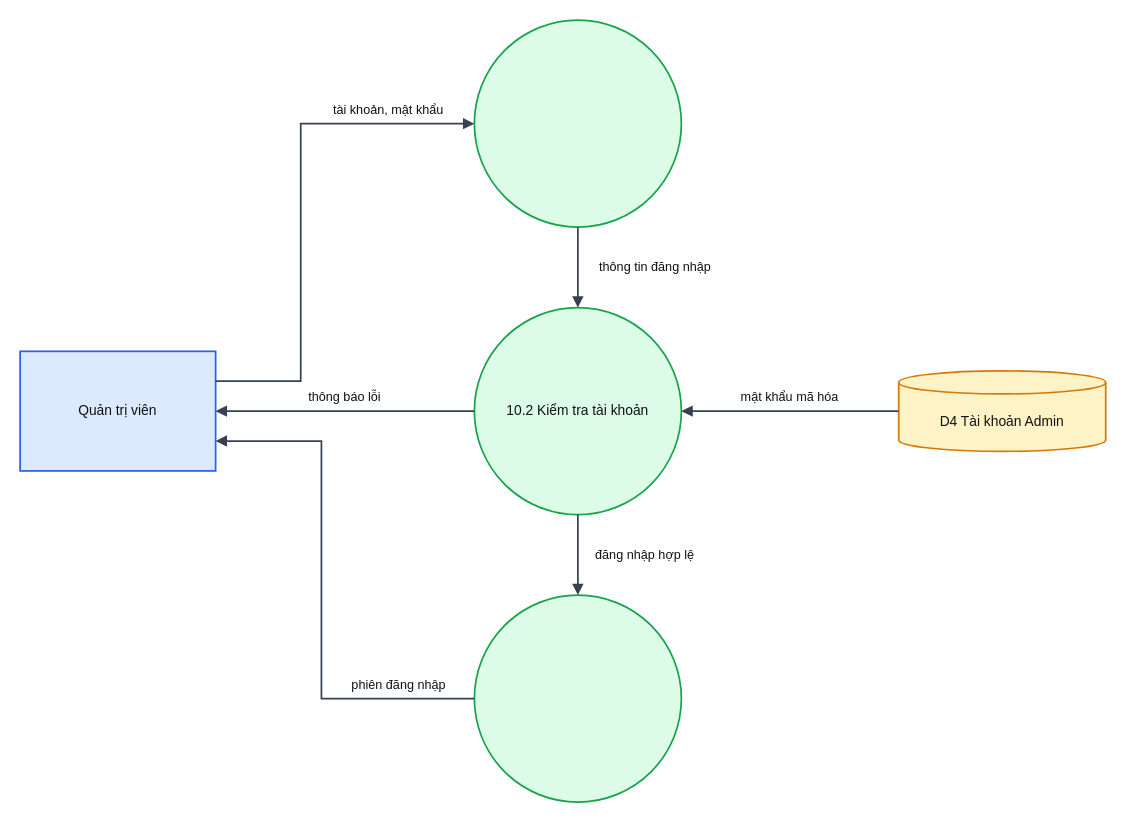
Some shapes in this 1127 by 823 pixel diagram are drawn without their labels. The shapes that lost their labels are listed below. From the top down, each one's box as (x1, y1, x2, y2) in pixels, then its label:
(473, 19, 682, 227): 10.1 Nhận thông tin đăng nhập
(473, 594, 682, 802): 10.3 Tạo phiên đăng nhập
